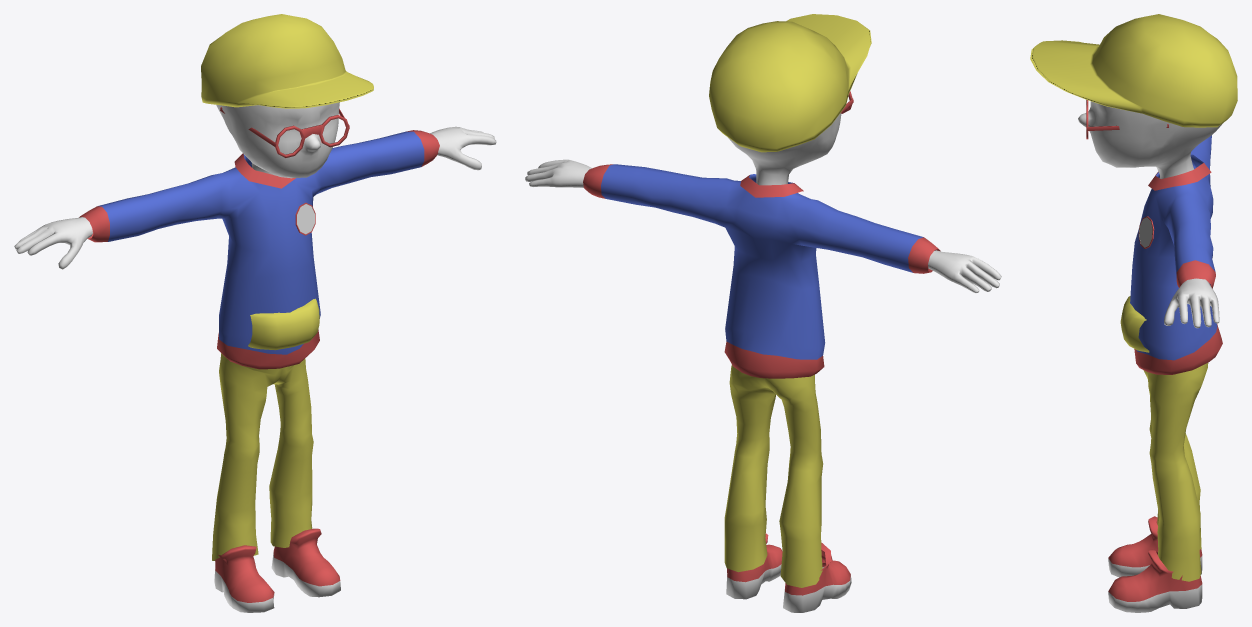
File: Ana_karakter 1.fbx
3 renders of one model, left to right at view 1: azimuth 30°, elevation 25°; view 2: azimuth 150°, elevation 25°; view 3: azimuth 270°, elevation 25°, orthographic.
Visible parts, largest first — view 1: polySurface26; view 2: polySurface26; view 3: polySurface26.
Boxes of the visible parts, x1,y1,x2,y2 form: polySurface26: [14, 14, 496, 612]; polySurface26: [525, 14, 1001, 612]; polySurface26: [1030, 14, 1237, 612].
Size of the model in its own units: 8.1 by 9.19 by 3.04.
